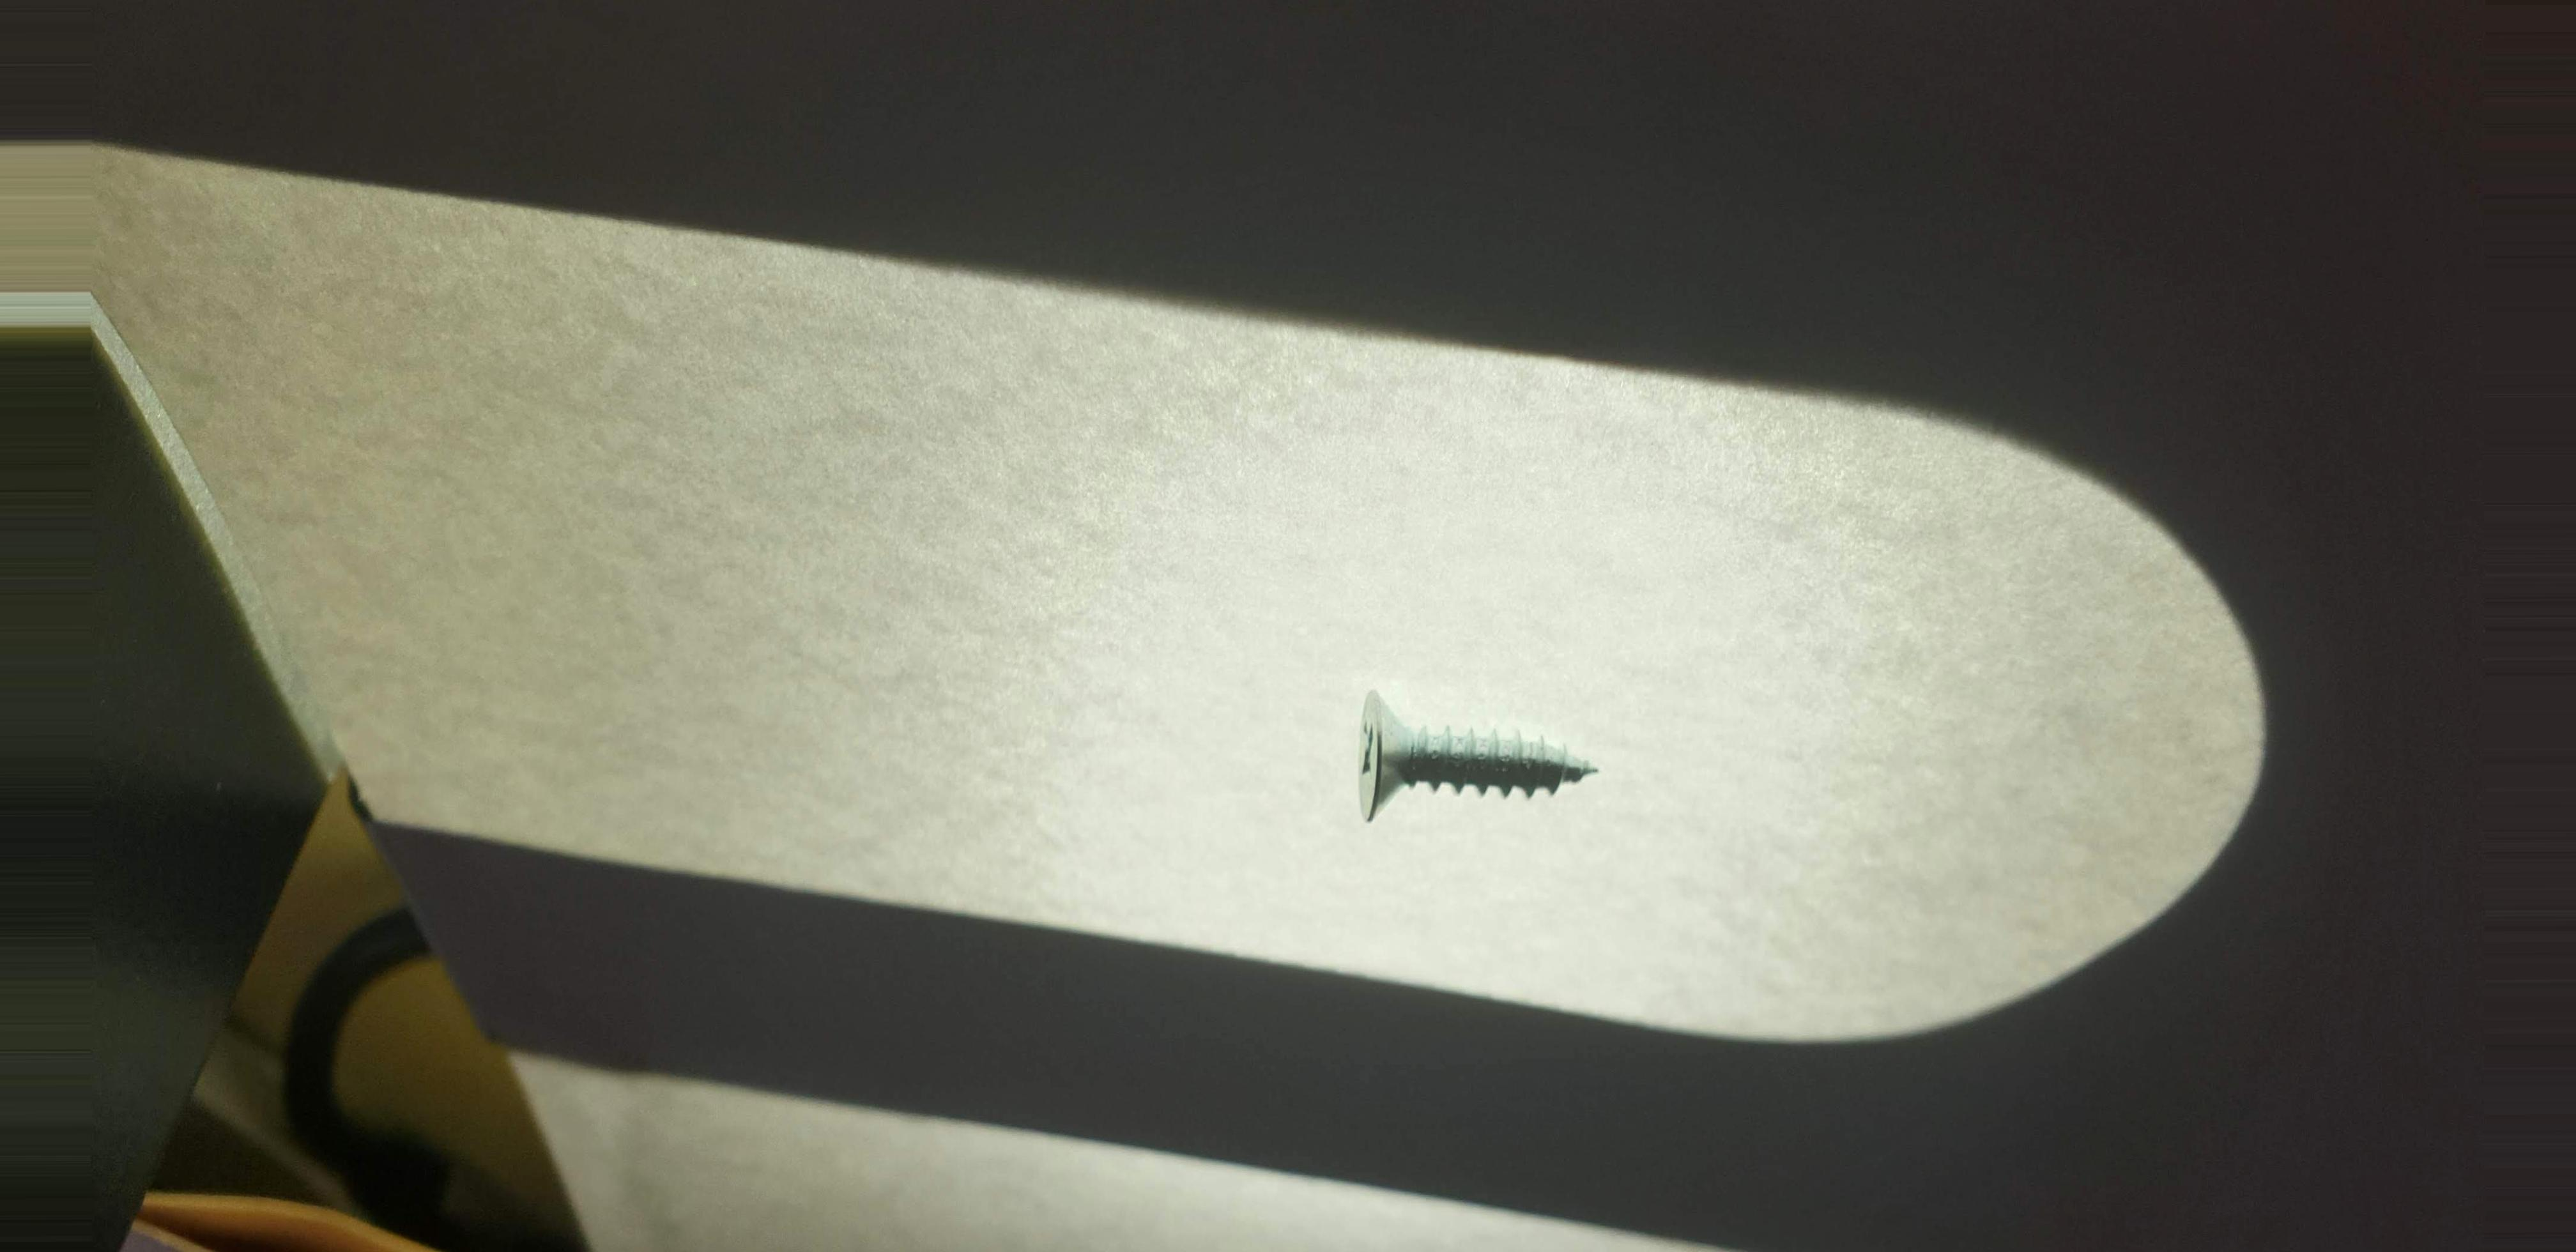S003: (1324, 675, 1630, 840)
